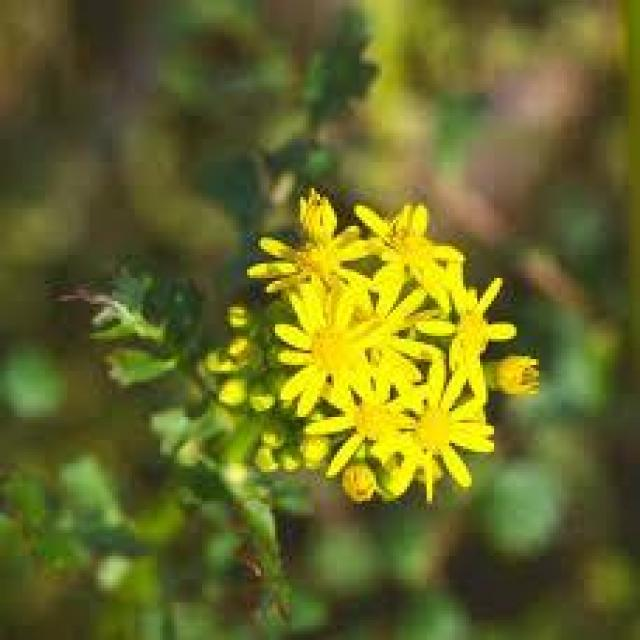organic waste: (250, 201, 556, 511)
